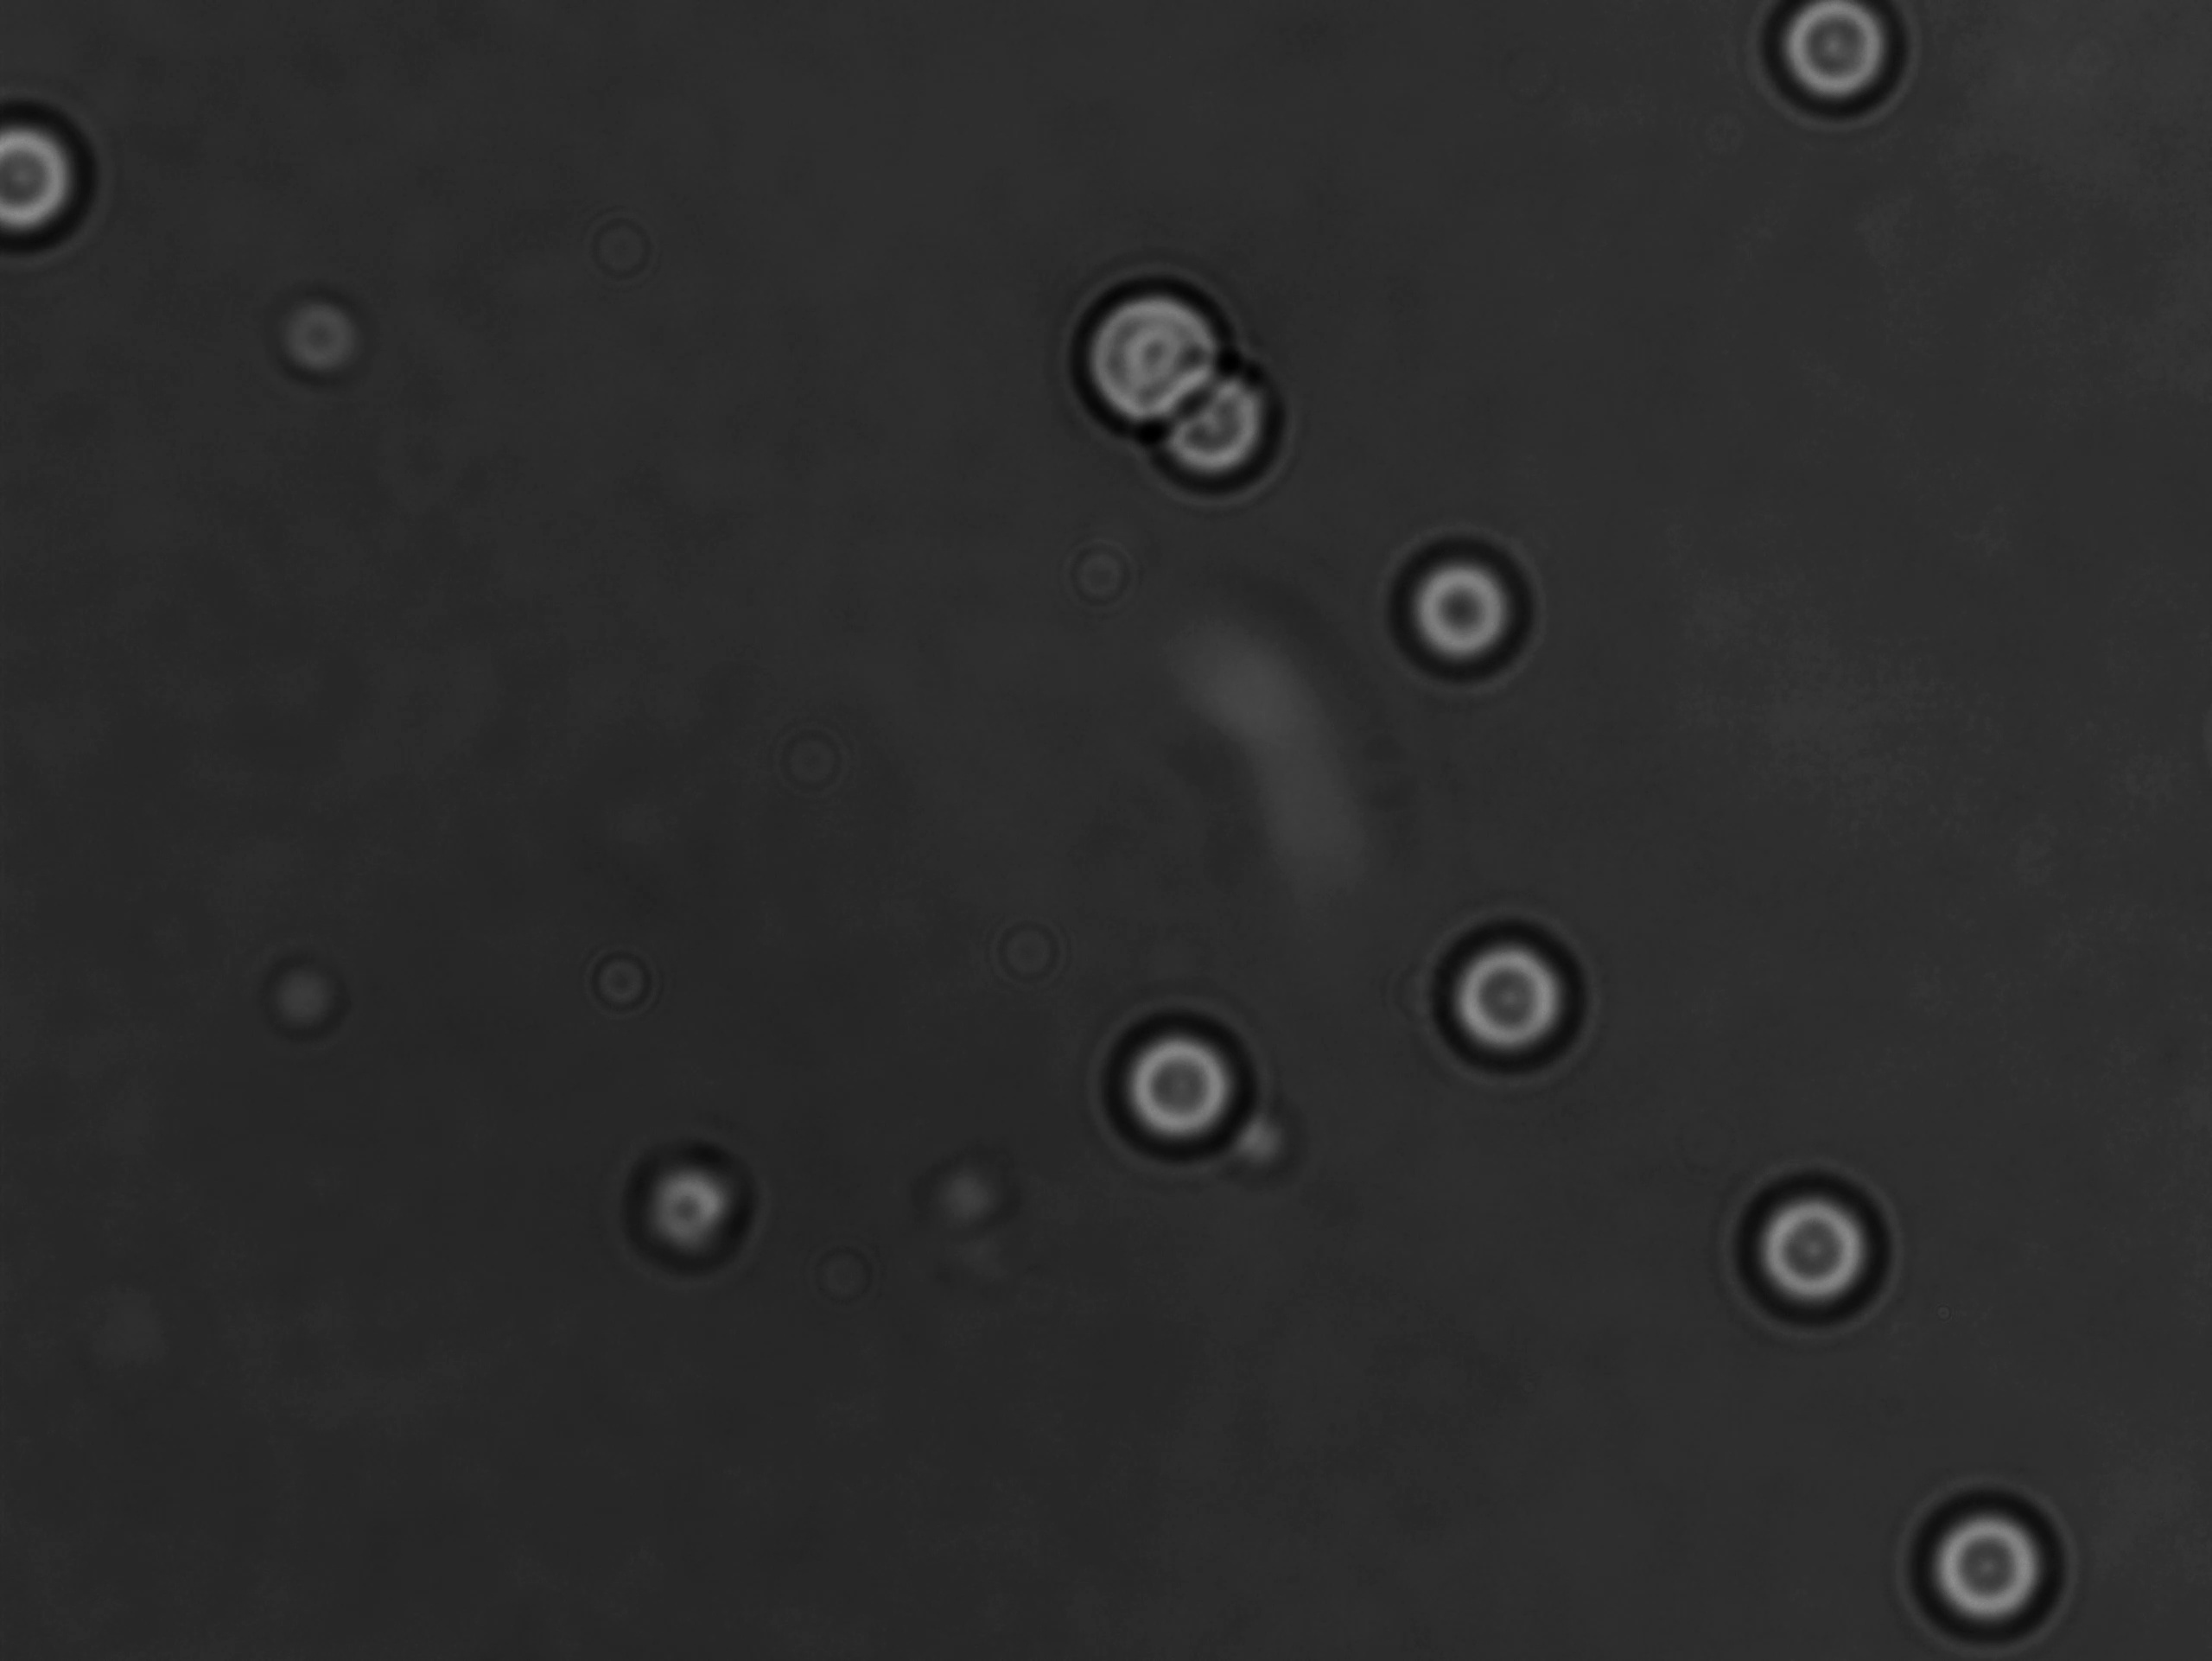depth:40: (1713, 1155, 1915, 1345), (1893, 1478, 2102, 1661), (1415, 913, 1601, 1080), (1369, 534, 1553, 696), (1096, 1008, 1280, 1165)
